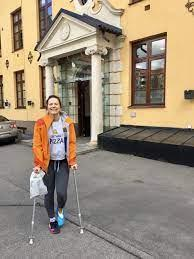crutches: (29, 95, 84, 244)
